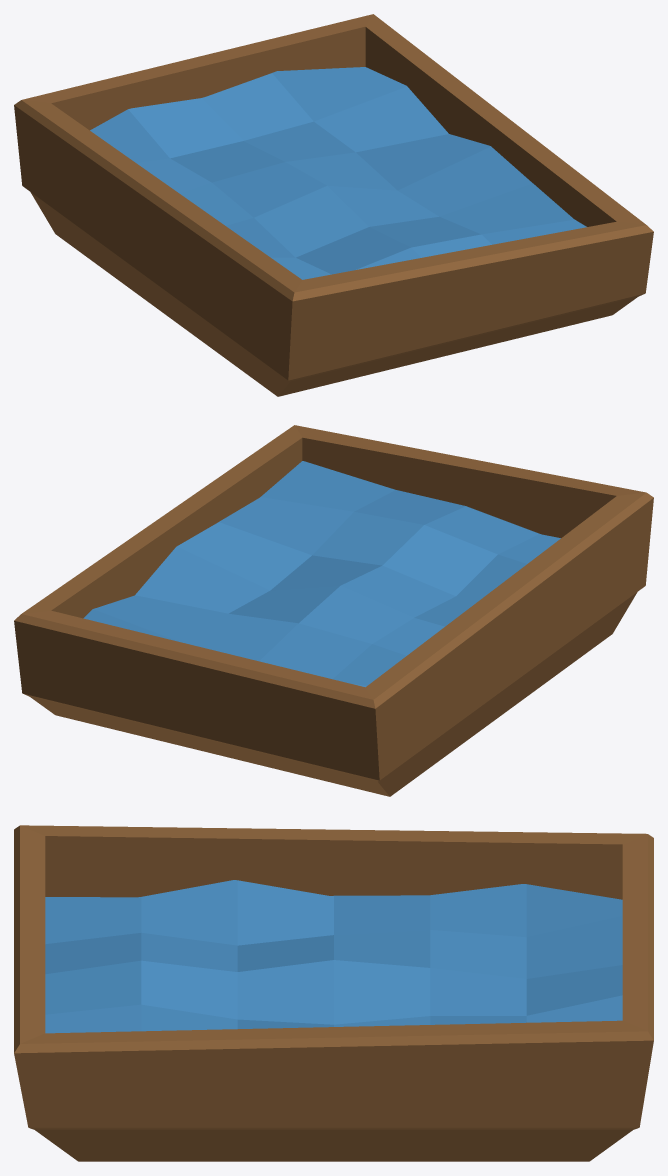
File: fooddish_a.gltf
3 views of the same model, one above another, from view 1: azimuth 30°, elevation 25°; view 2: azimuth 150°, elevation 25°; view 3: azimuth 270°, elevation 25° (orthographic). The views are drawn at different scales.
Visible parts, largest first — view 1: fooddish_a001; view 2: fooddish_a001; view 3: fooddish_a001.
Part boxes in pixels (<box>): fooddish_a001: <box>14,14,653,396</box>; fooddish_a001: <box>14,425,653,796</box>; fooddish_a001: <box>14,825,653,1161</box>.
Size of the model in its own units: 0.7674 by 0.2537 by 1.02.
1 material, 1 textured.
